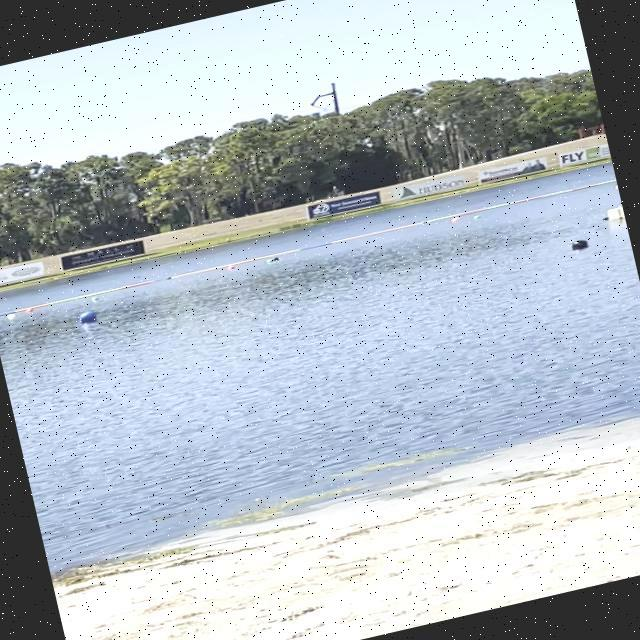buoy: (568, 236, 590, 252), (78, 308, 99, 322), (6, 312, 15, 318), (474, 213, 481, 220), (226, 264, 234, 270), (91, 296, 98, 302), (451, 216, 458, 222), (266, 258, 272, 264), (24, 308, 32, 312)
